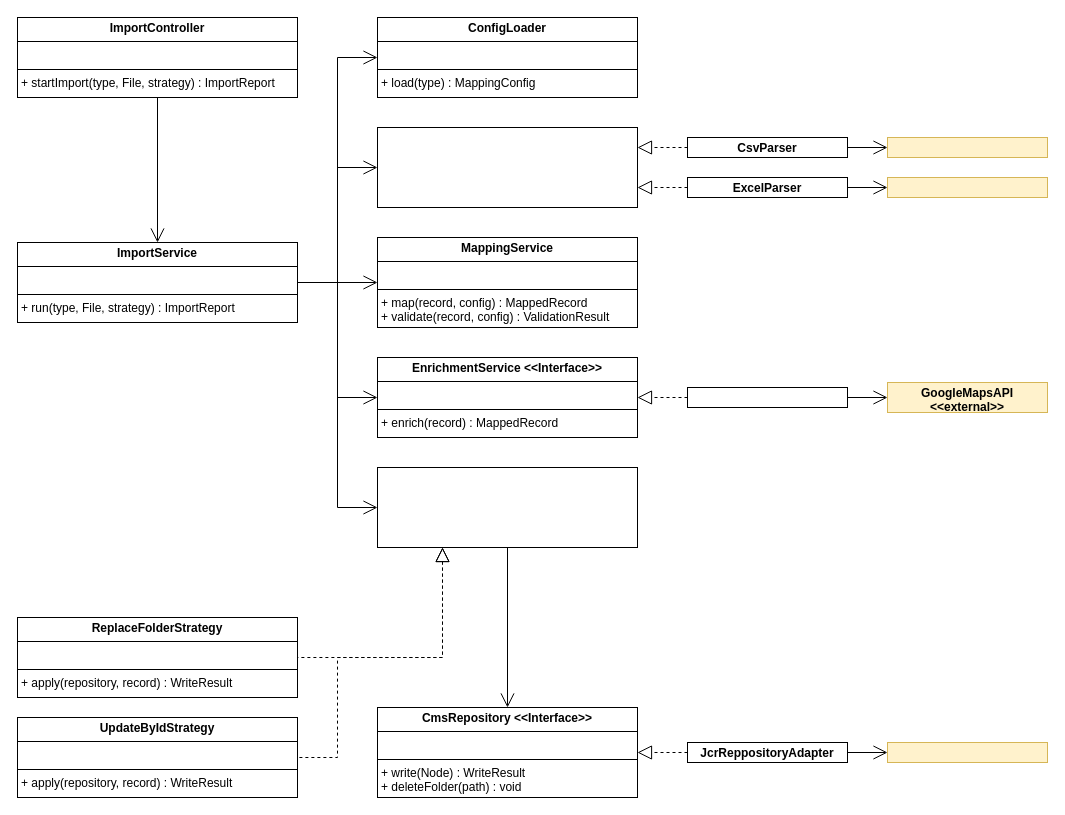
The diagram is 1065 pixels wide and 815 high, and some of its shapes have lost their labels. The centre of each missing label's shape, as x and y in pixels:
"CSVReader <<external>>" belongs at point 967,147.
"GeocodingAdapter" belongs at point 767,397.
"Parser <<Interface>> + parse(file) : Stream-Record" belongs at point 507,167.
"Session <<external>>" belongs at point 967,752.
"UpdateStrategy <<interface>> + apply(repository, record) : WriteResult" belongs at point 507,507.
"Workbook <<external>>" belongs at point 967,187.
